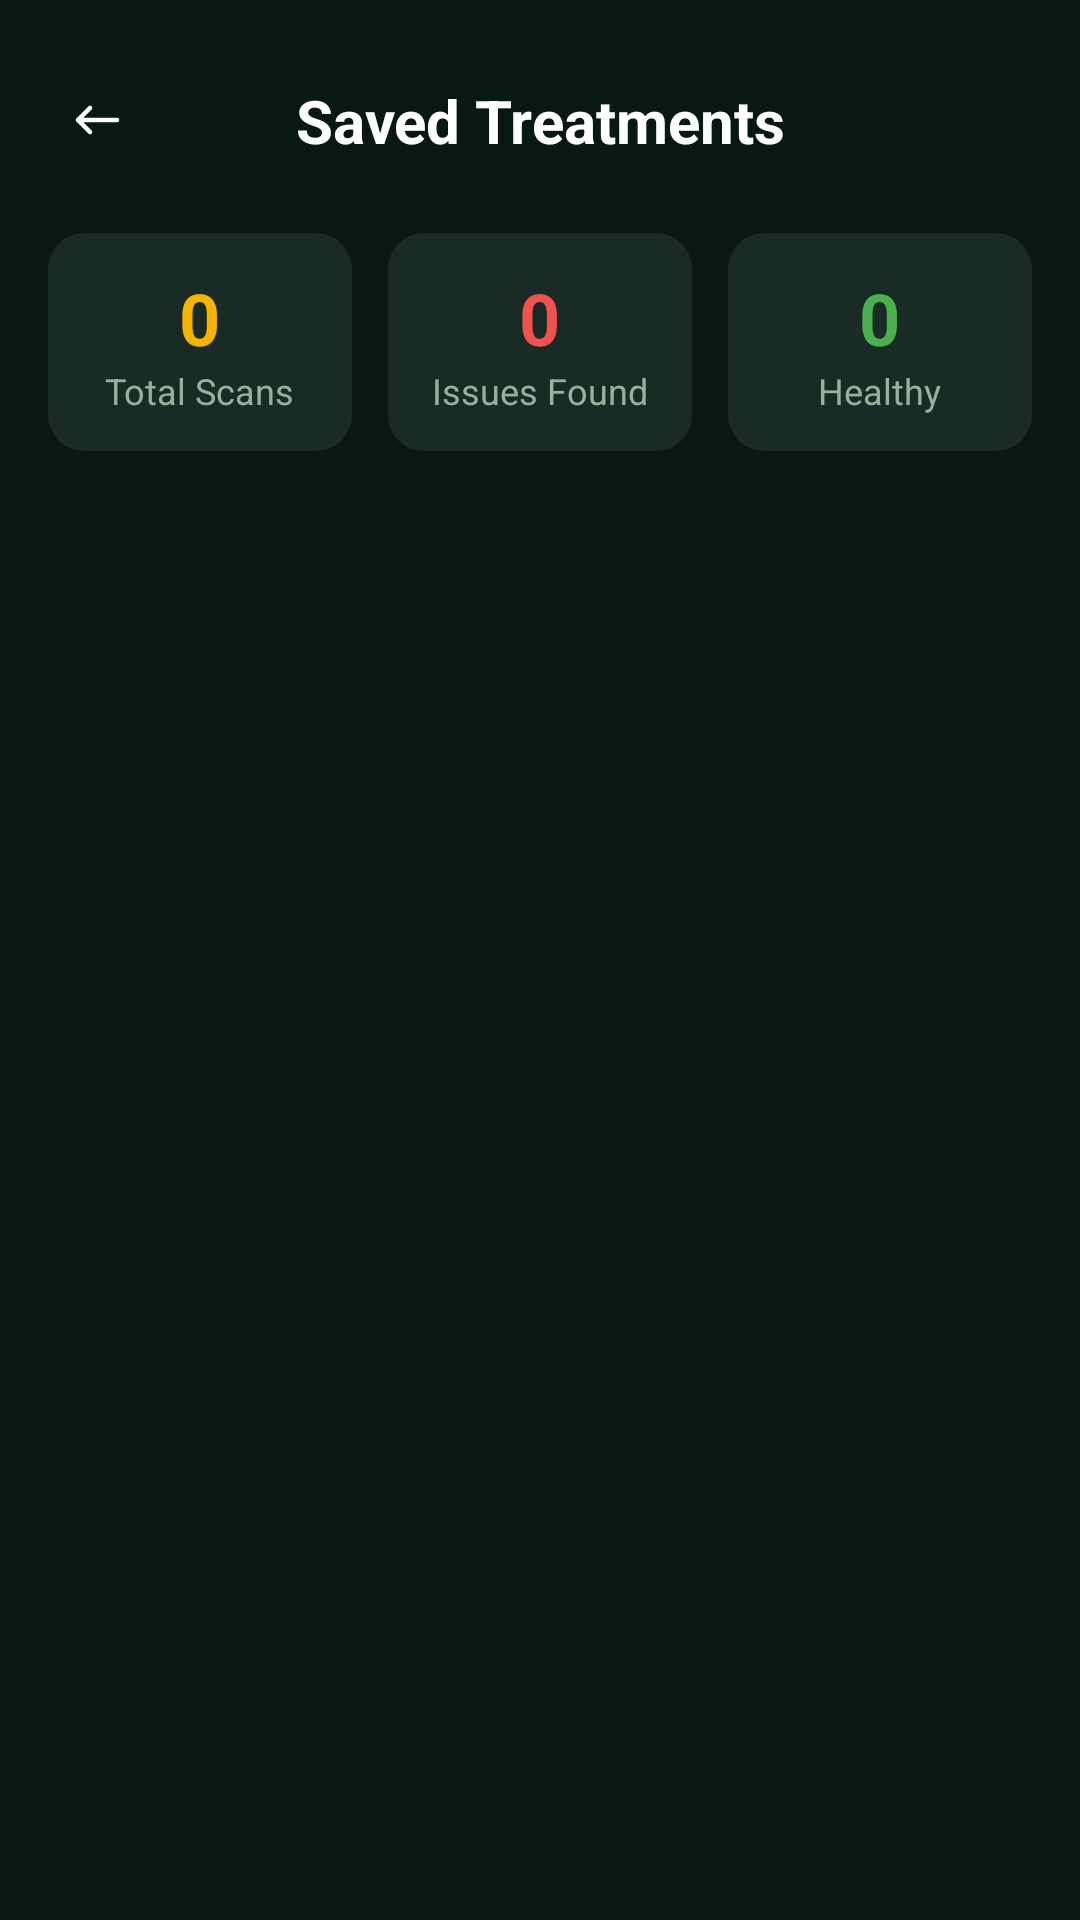

Icon click points for this 1080x1920 phone screenshot, format (x,y):
Back: (97,120)
